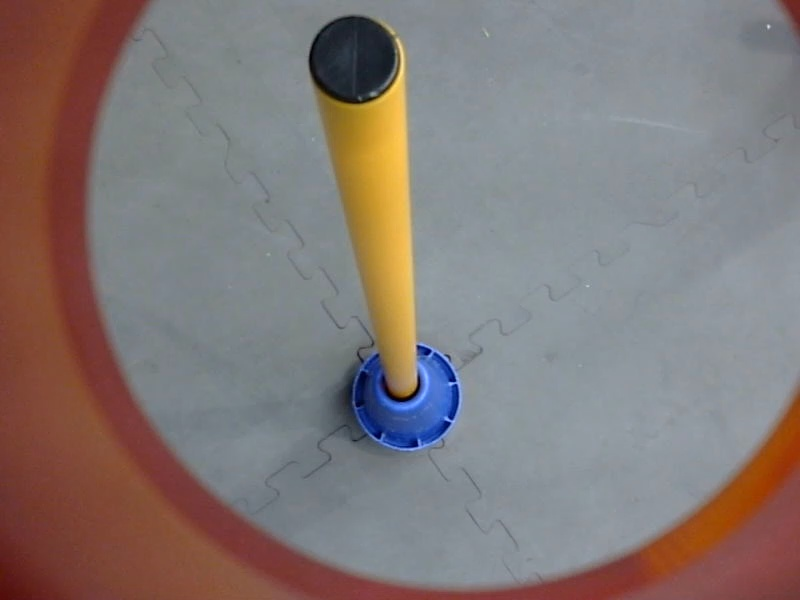tip: (303, 8, 405, 113)
